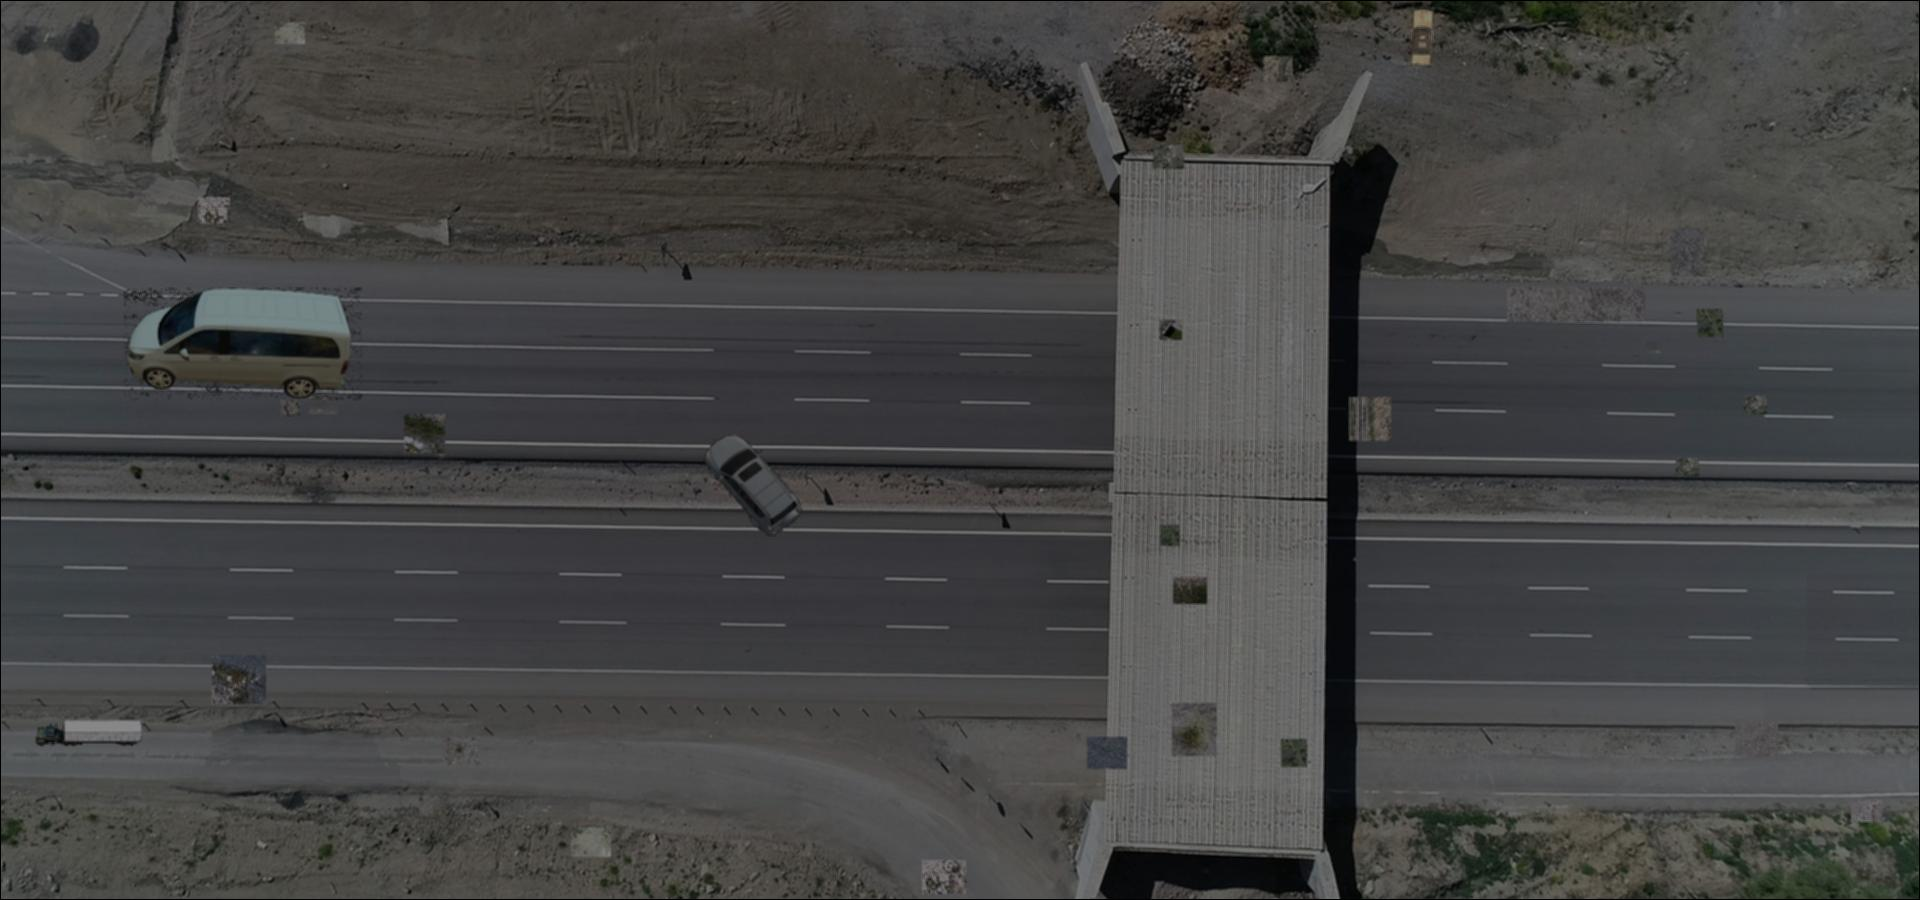arac: (124, 288, 362, 400), (700, 433, 807, 538), (36, 718, 143, 747), (1408, 9, 1436, 67)
